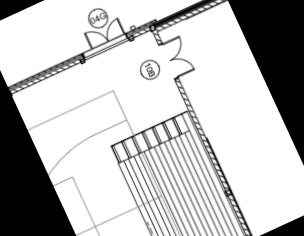double door: (157, 33, 197, 81), (81, 16, 129, 54)
wall: (172, 75, 255, 236), (6, 48, 88, 97), (152, 0, 228, 35), (128, 16, 160, 42)
